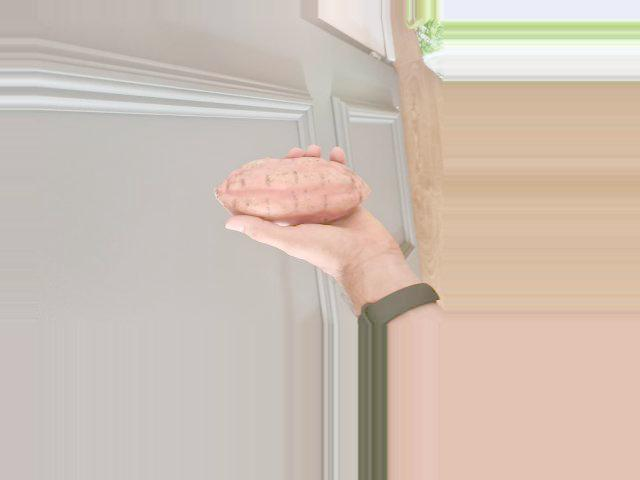sweet_potato: (213, 159, 369, 227)
